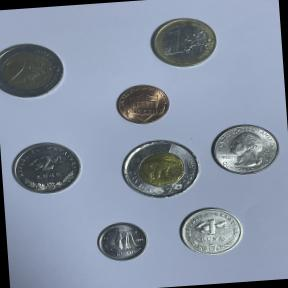coin: (114, 134, 204, 203), (6, 136, 87, 199), (204, 118, 284, 180), (0, 36, 69, 105), (144, 12, 222, 72), (110, 79, 174, 130), (91, 216, 151, 266)
